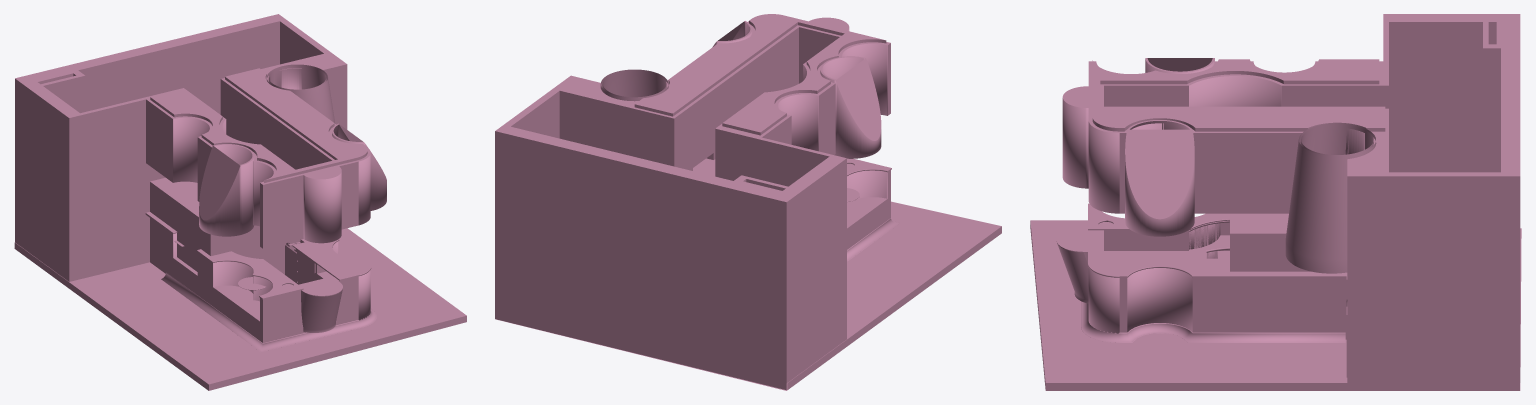
The model's file is asset.glb.
The picture shows the model from 3 angles, left to right: view 1: azimuth 30°, elevation 25°; view 2: azimuth 150°, elevation 25°; view 3: azimuth 270°, elevation 25°; orthographic projection. The views are drawn at different scales.
Visible parts, largest first — view 1: the final model.001, Cube.001; view 2: the final model.001; view 3: the final model.001, Cube.001.
Part boxes in pixels (box(x1,y1,x2,y2)): the final model.001: box(14, 14, 466, 390); Cube.001: box(150, 177, 286, 274); the final model.001: box(495, 14, 1001, 390); the final model.001: box(1030, 14, 1521, 390); Cube.001: box(1230, 213, 1310, 271).
Size of the model in its own units: 4.98 by 3.12 by 6.36.
